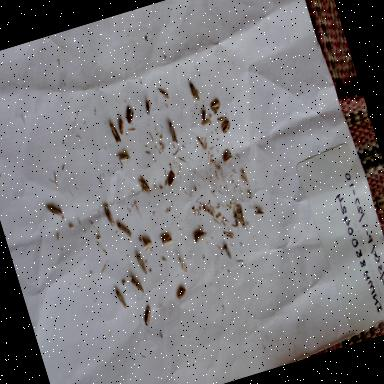pbw: (100, 201, 122, 236), (162, 118, 182, 151), (119, 101, 140, 131), (229, 201, 249, 231), (116, 216, 138, 243), (216, 148, 238, 174), (139, 92, 157, 121), (44, 197, 64, 223), (161, 169, 180, 196), (189, 225, 210, 249), (236, 166, 253, 194), (128, 273, 146, 299), (135, 170, 153, 196), (136, 306, 157, 328), (216, 116, 235, 140), (106, 120, 122, 148), (134, 252, 150, 280), (187, 79, 203, 105), (114, 287, 130, 312), (140, 234, 156, 258), (114, 147, 132, 168), (158, 231, 176, 251), (193, 132, 208, 155), (114, 114, 128, 138), (205, 96, 223, 114), (156, 83, 172, 103), (220, 240, 234, 262), (174, 254, 189, 274), (212, 110, 228, 128), (174, 284, 188, 300), (197, 105, 209, 123), (222, 228, 235, 241), (198, 116, 212, 128), (254, 207, 266, 218)
